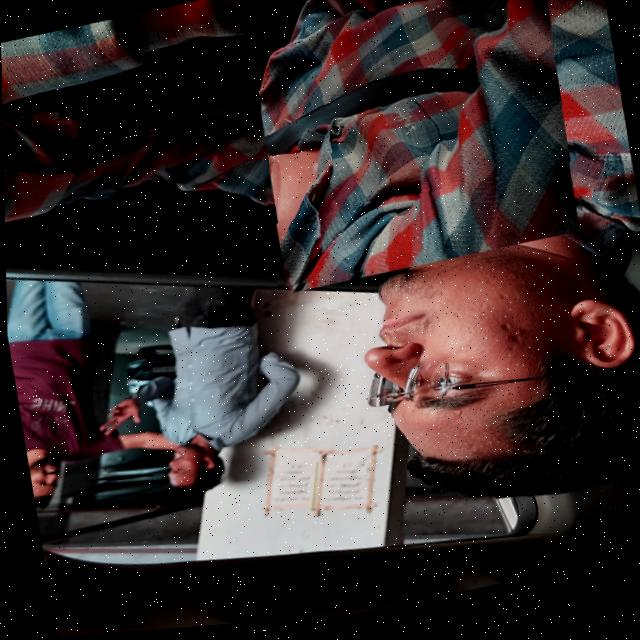seatbelt: (230, 0, 586, 298)
